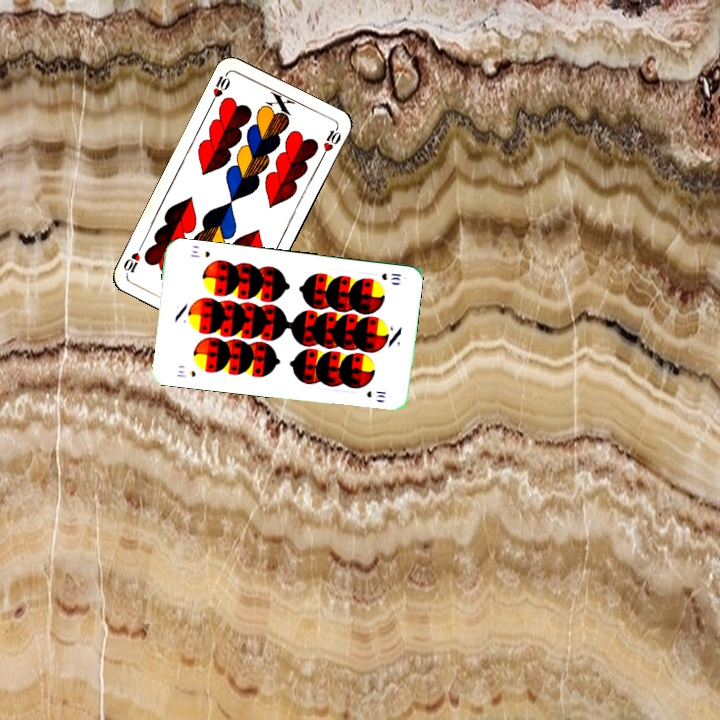H10: (207, 69, 233, 107)
S10: (378, 269, 404, 283), (173, 366, 198, 380)
